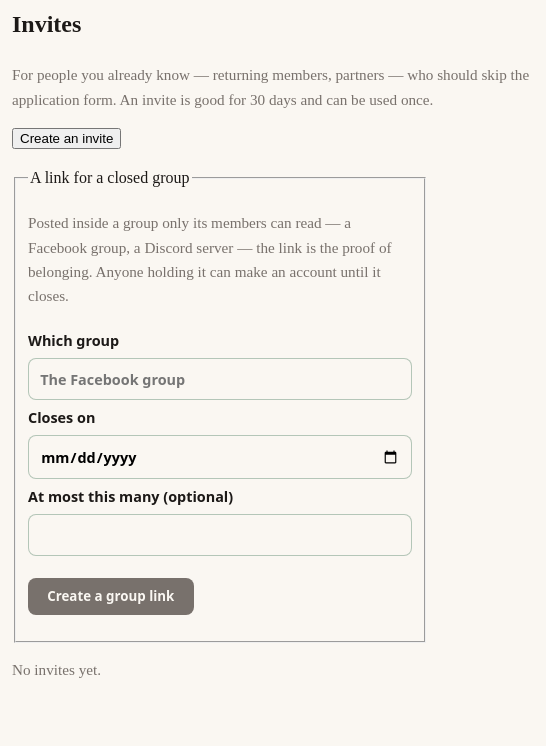
Test case: AdminInvites › refuses a closing date already gone, and says which field is wrong (#529)
Type "A door already shut" into the field labelled "Which group" at point(220, 379), box [28,358,412,400]
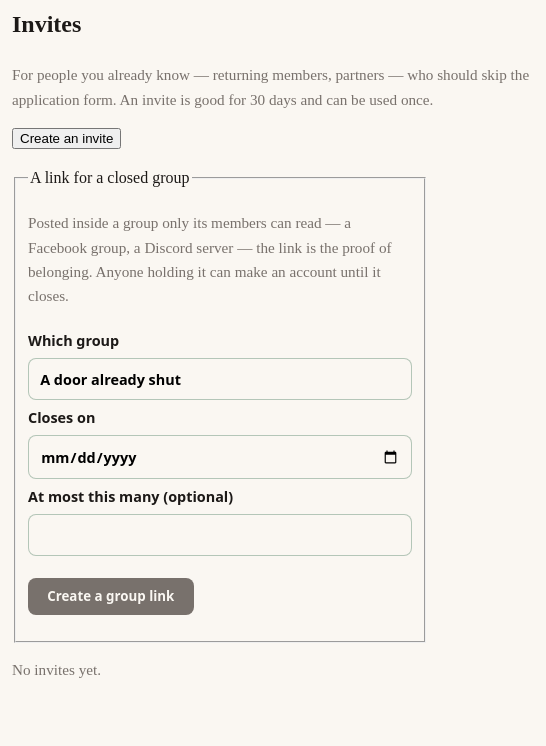
Type "2020-01-01" into the date field labelled "Closes on" at point(220, 457), box [28,435,412,479]
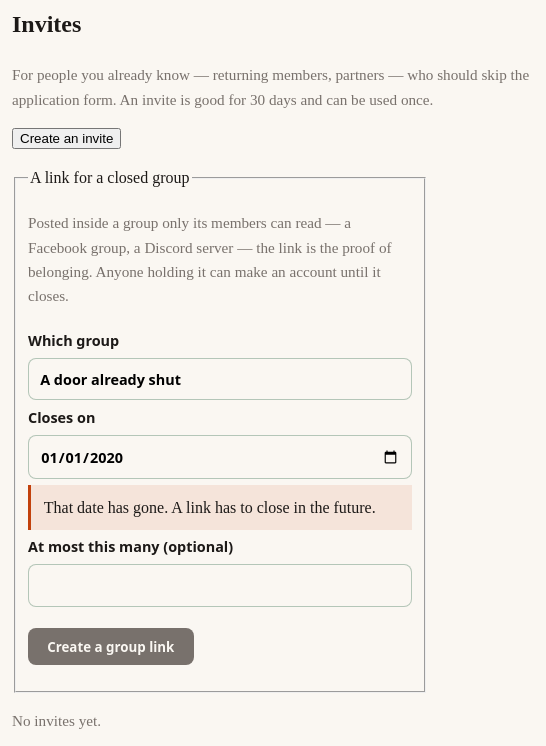
Expected: the button "Create a group link" is disabled, [28,628,194,665]
Expected: the text "That date has gone. A link has to close in the future." is shown, [28,485,412,530]
